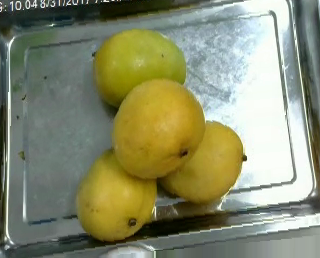Mango: (112, 78, 205, 179), (76, 145, 154, 241), (93, 29, 185, 108), (158, 121, 242, 203)
